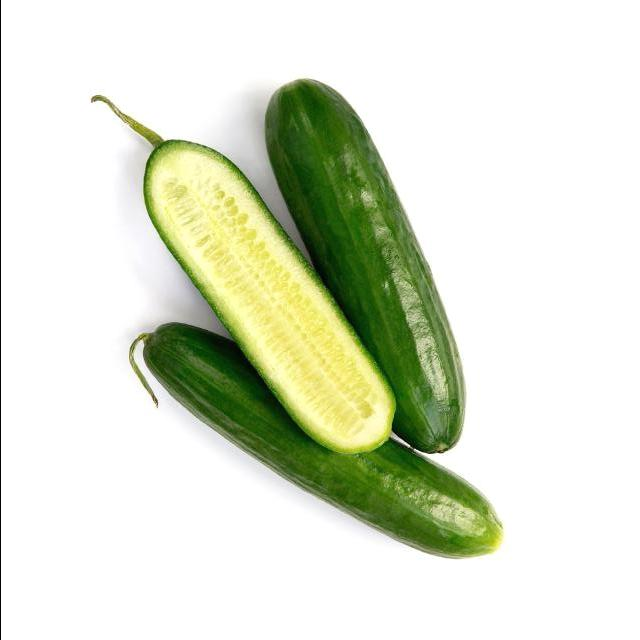Cucumber: (138, 330, 501, 558), (266, 79, 466, 445)
